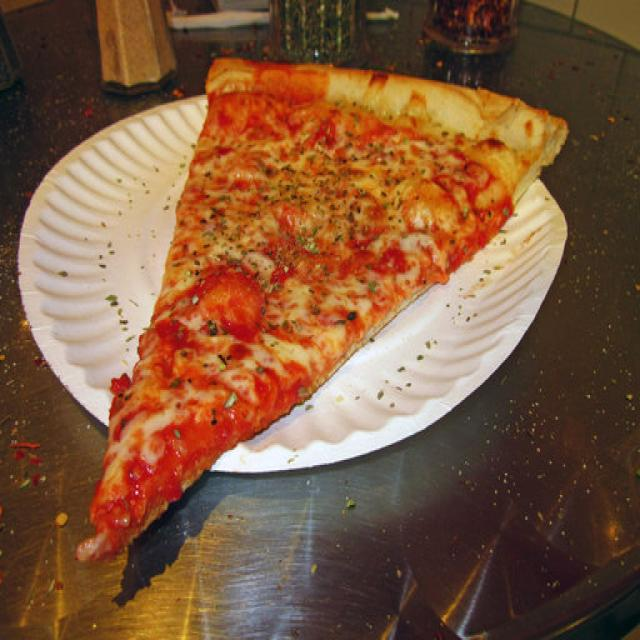Pizza: (80, 58, 568, 562)
